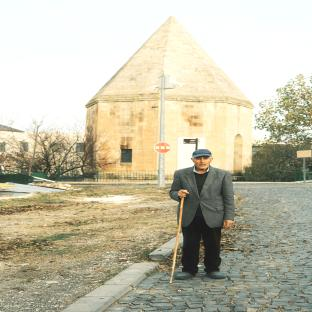Human: (170, 149, 235, 280)
